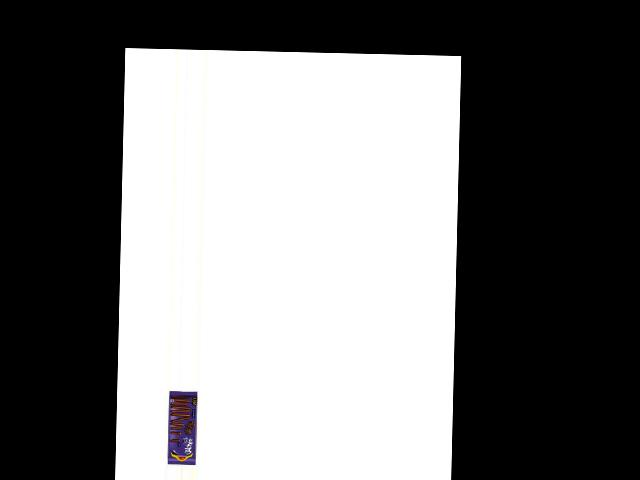chocolate: (163, 389, 198, 465)
